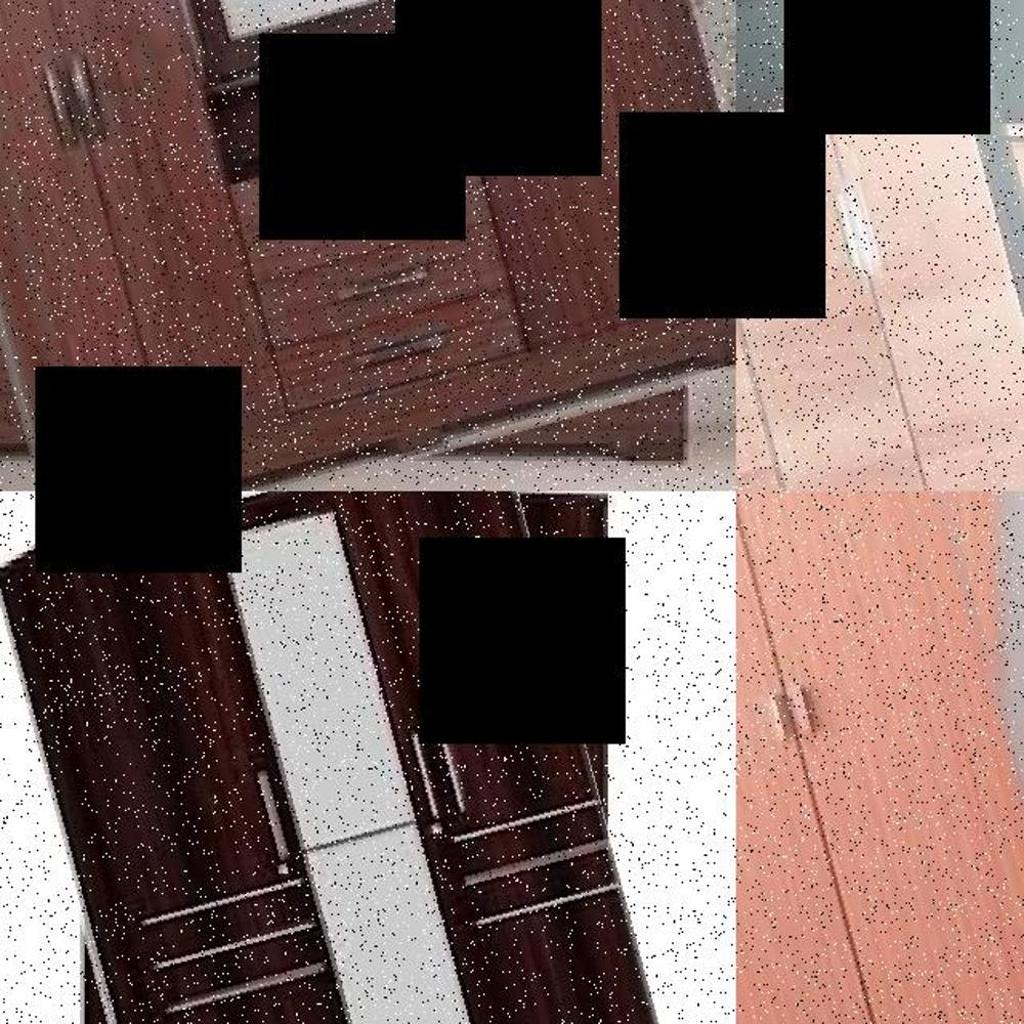cabinet: (0, 0, 736, 491), (27, 491, 656, 1024), (736, 491, 1024, 1024), (736, 0, 1024, 491)
